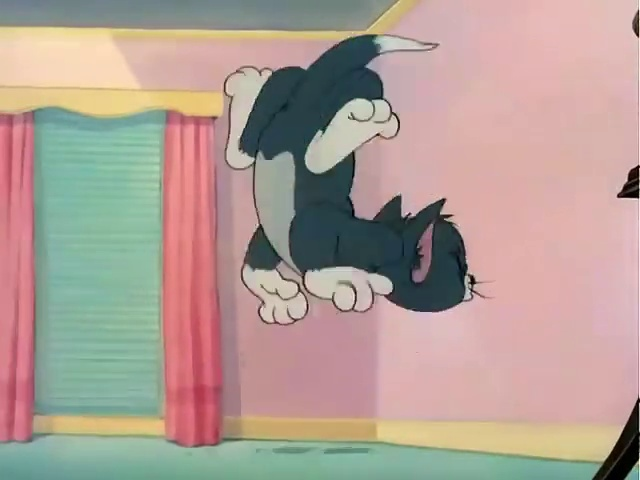tom: (198, 15, 499, 376)
